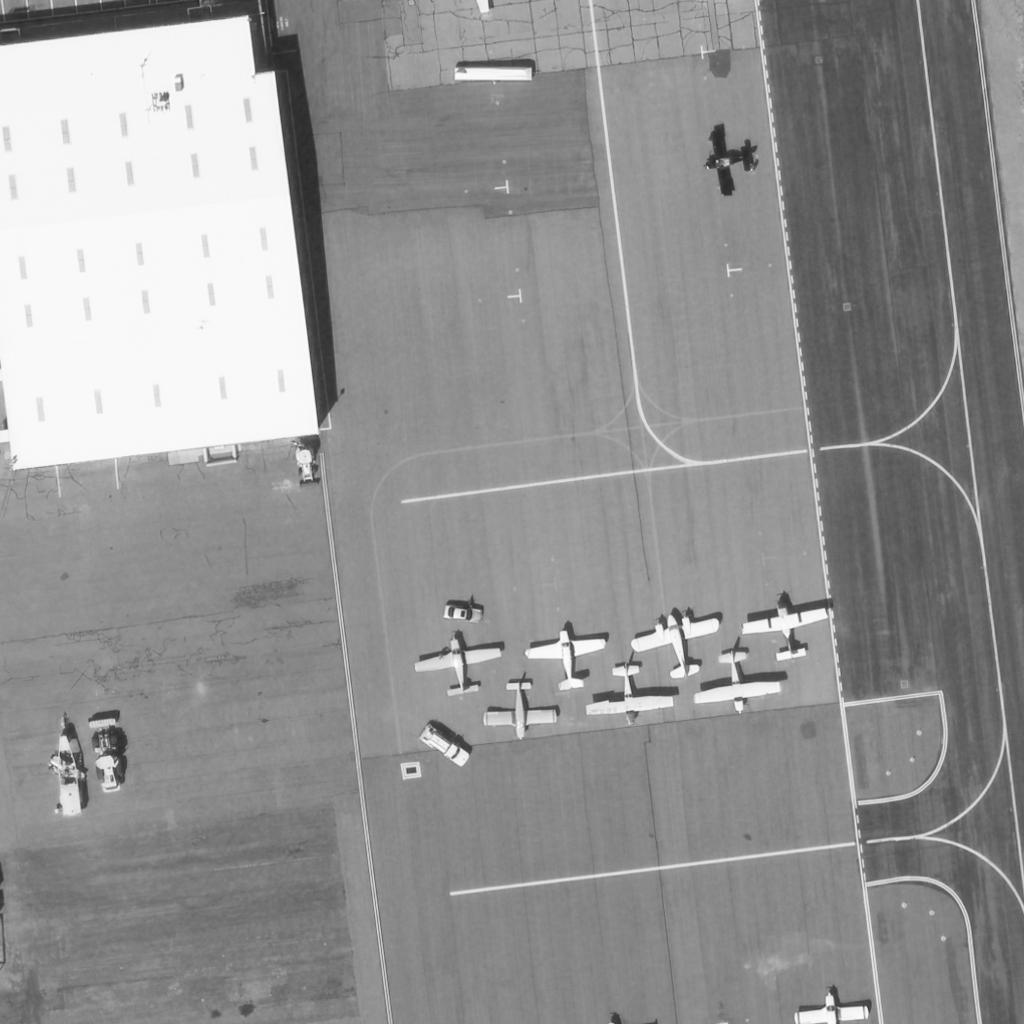vehicle: (43, 716, 89, 816), (87, 718, 131, 794), (421, 725, 471, 769), (292, 448, 322, 486), (443, 601, 485, 625)
